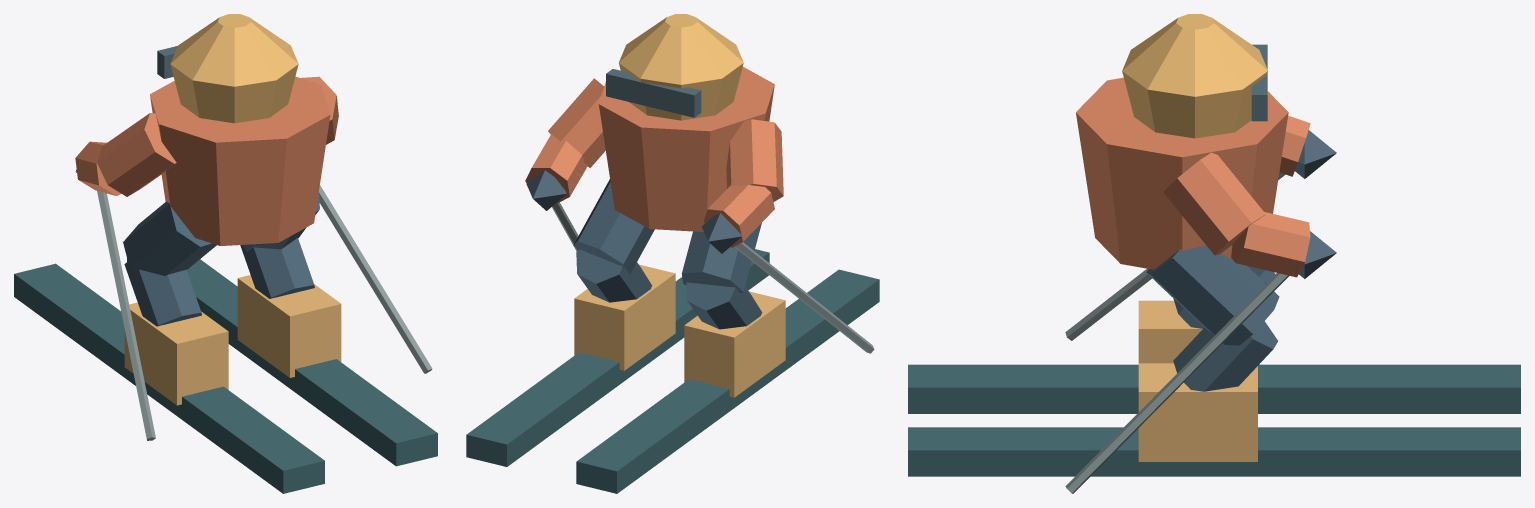
Rendered from rival-skier.glb.
3 views of the same model, side by side, from view 1: azimuth 30°, elevation 25°; view 2: azimuth 150°, elevation 25°; view 3: azimuth 270°, elevation 25° (orthographic). The views are drawn at different scales.
Parts seen in each view (by area): view 1: rival-skier; view 2: rival-skier; view 3: rival-skier.
Boxes of the visible parts, x1,y1,x2,y2 form: rival-skier: (14, 14, 437, 493); rival-skier: (466, 14, 879, 493); rival-skier: (908, 14, 1520, 493).
Size of the model in its own units: 1.16 by 1.41 by 1.9.
